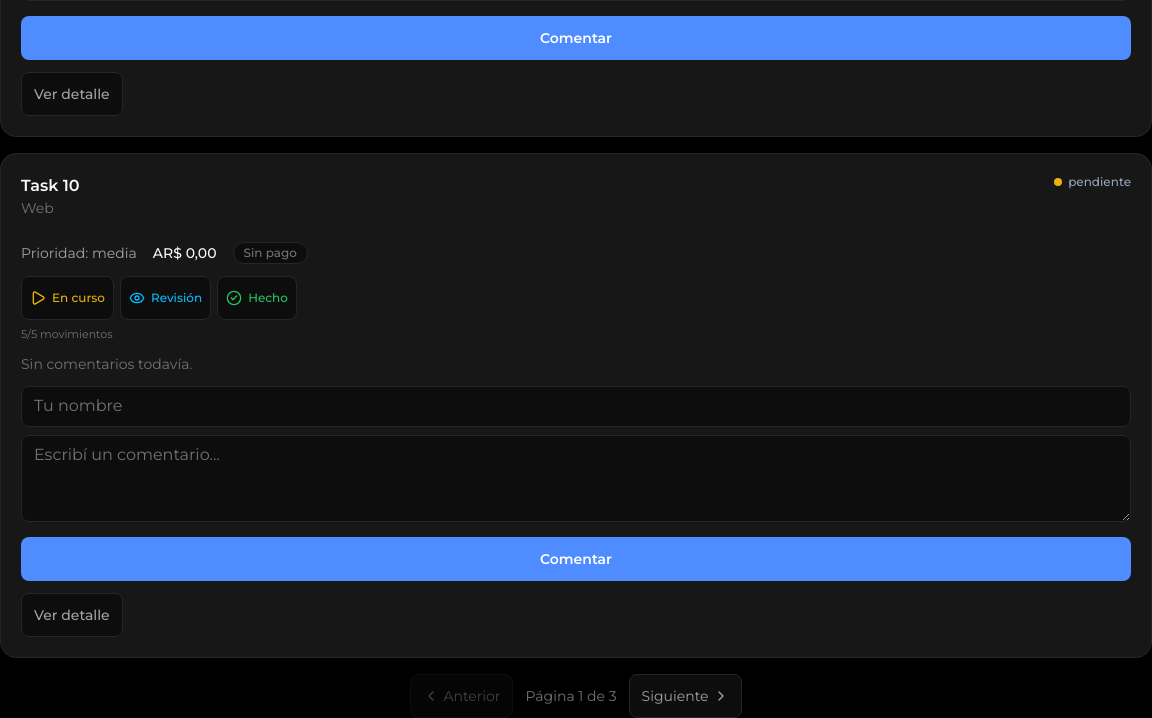
Test: PortalTaskList navigation › paginates 10 tasks per page
(page scrolled)
Expected: the text "Página 1 de 3" is shown, [526,686,617,706]
Click the button "Siguiente": (685, 696) [629,674,742,717]
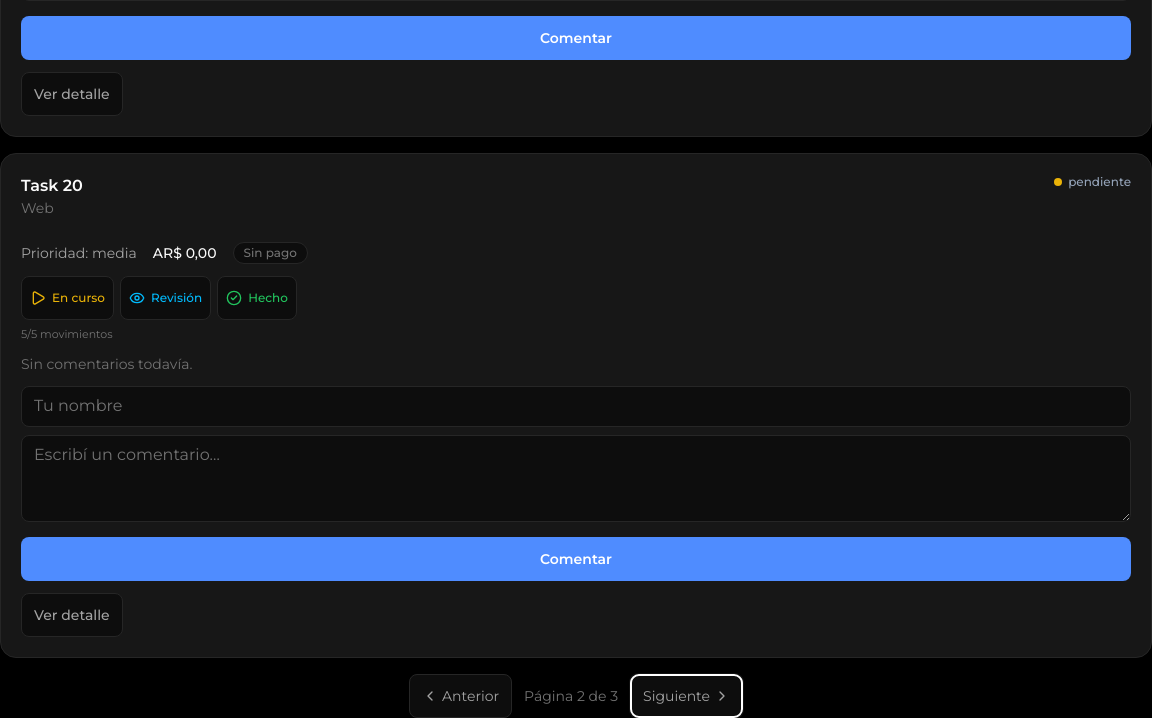
Click the button "Siguiente": (687, 696) [630,674,743,717]
(page scrolled)
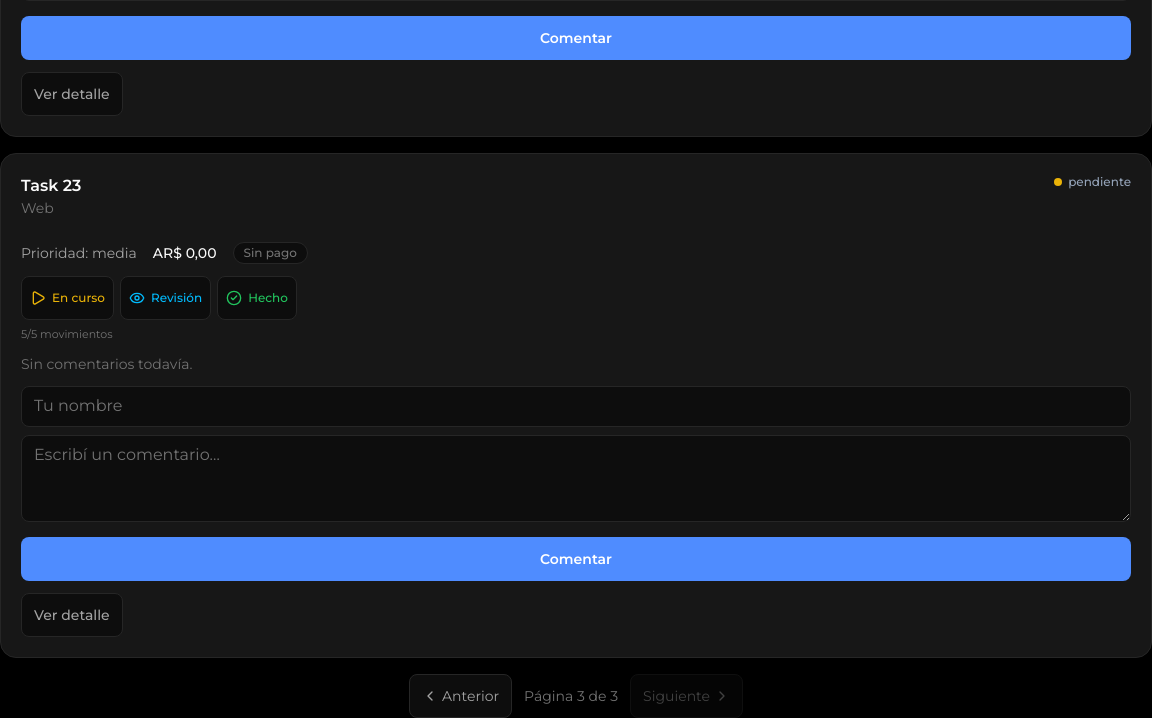
Expected: the text "Página 3 de 3" is shown, [524,686,618,706]
Expected: the number of headings is 3
